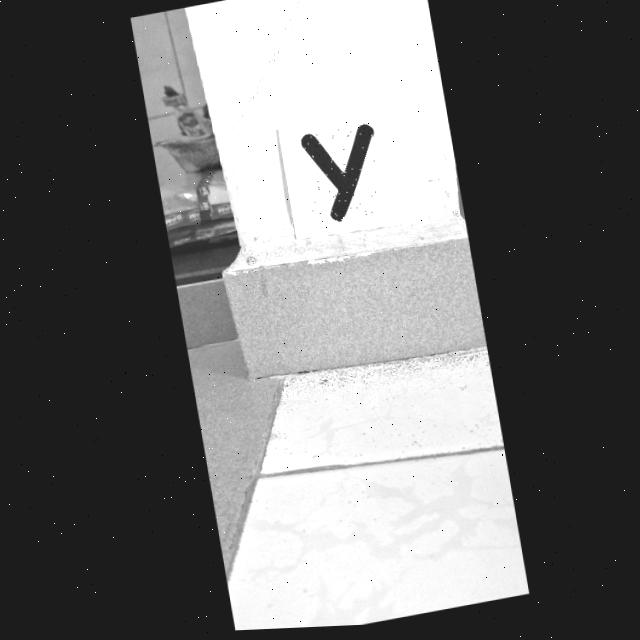Y: (300, 128, 372, 224)
